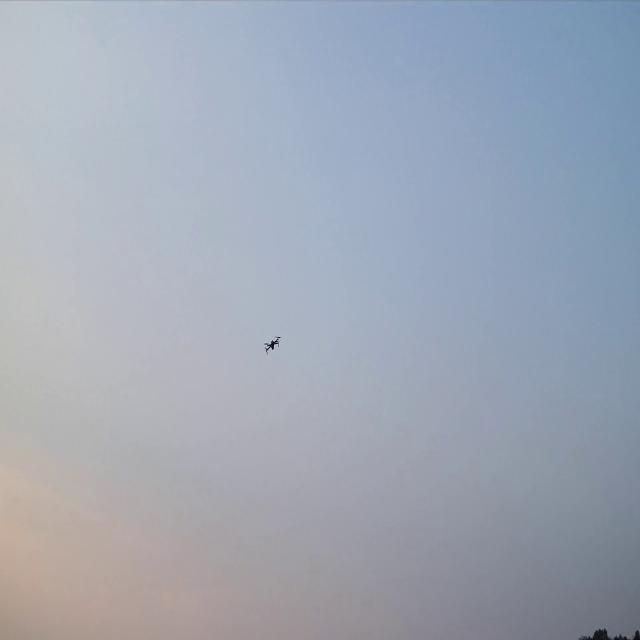UAV: (262, 334, 282, 355)
